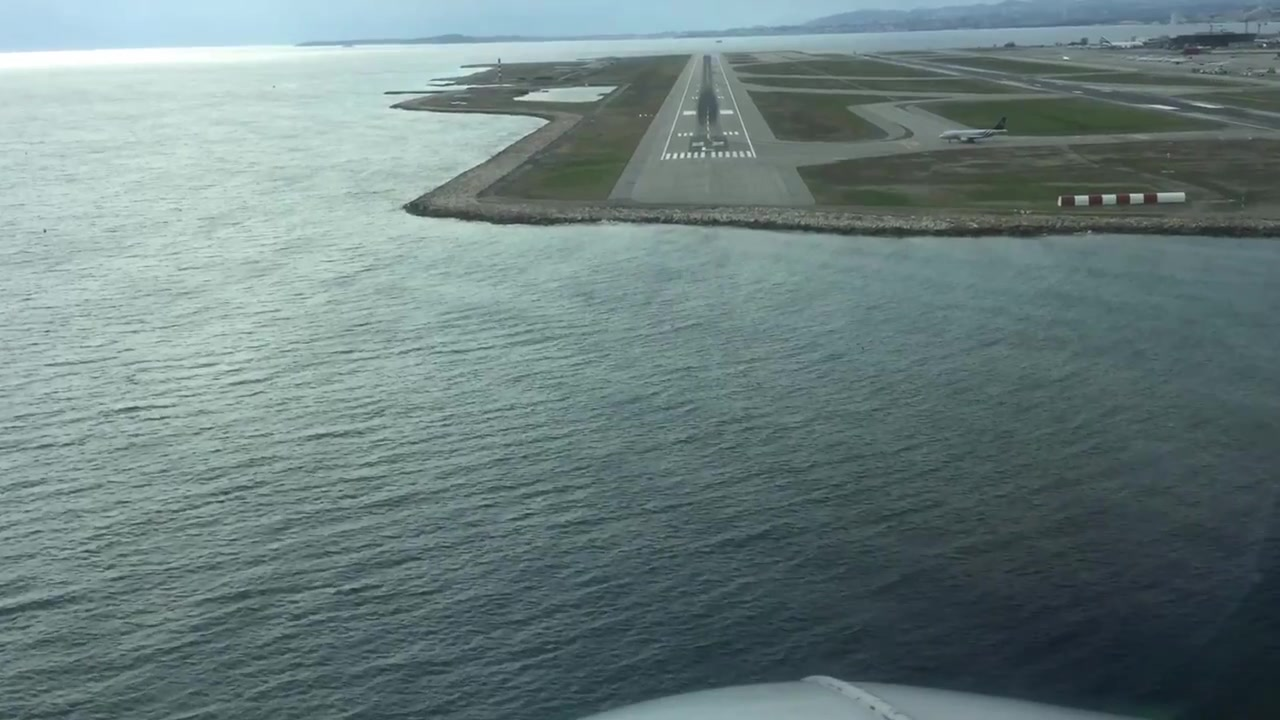entrance: (663, 149, 754, 161)
runway: (609, 54, 814, 208)
